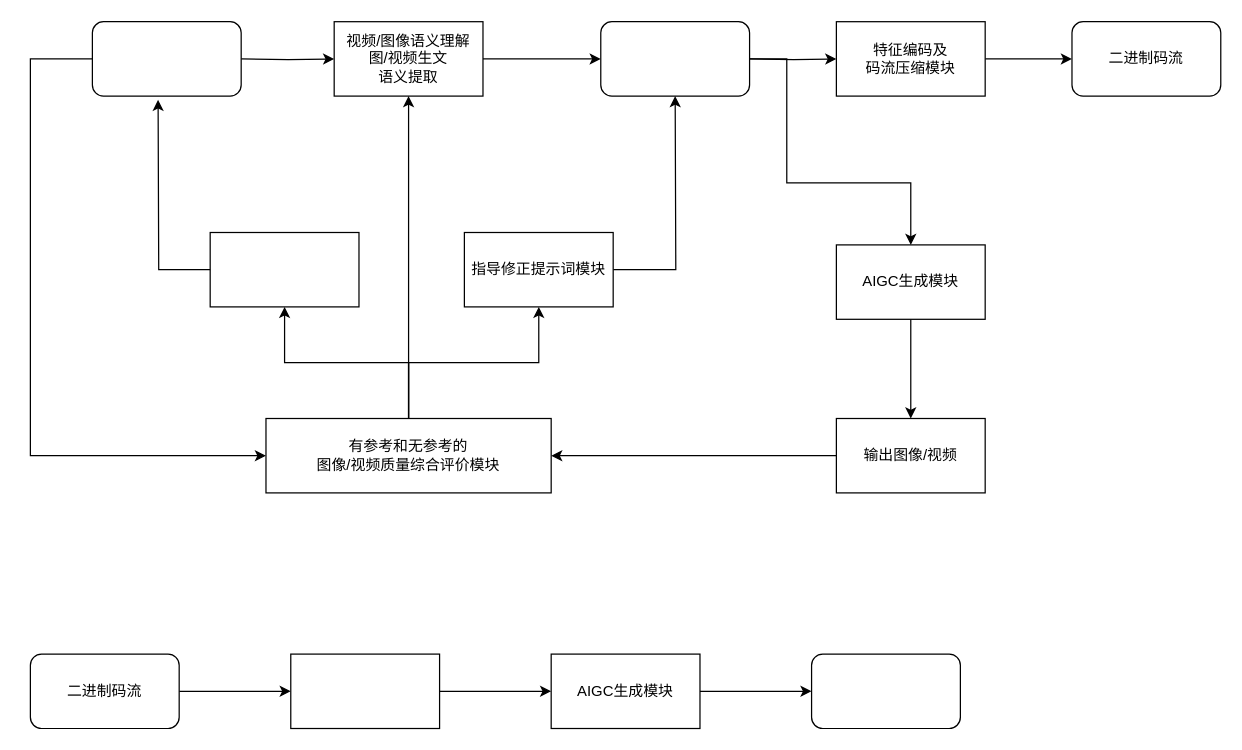
Some shapes in this 1242 by 750 pixel diagram are drawn without their labels. Each missing label, with the centre of its shape:
"原始图像/视频" belongs at (166,58).
"基于语义重建的 图像/视频" belongs at (885,690).
"多嵌入特征语义信息" belongs at (675,58).
"指导美化模块" belongs at (284,269).
"码流解码模块" belongs at (365,690).
